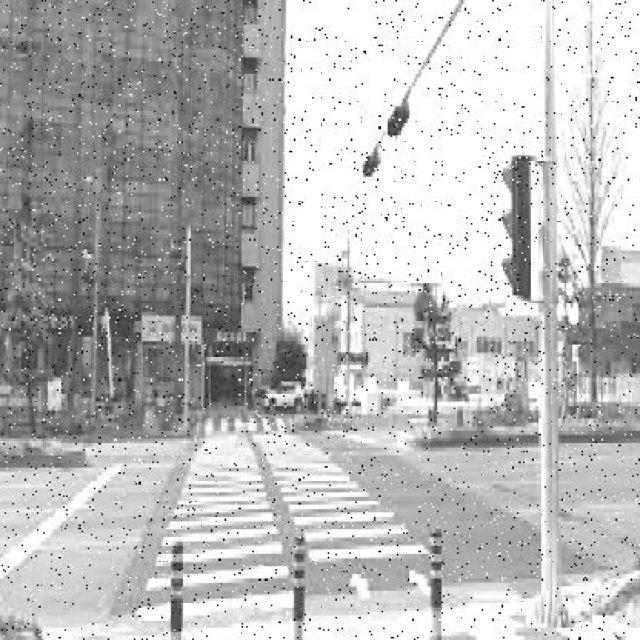crosswalk: (137, 435, 464, 617), (195, 416, 287, 434)
